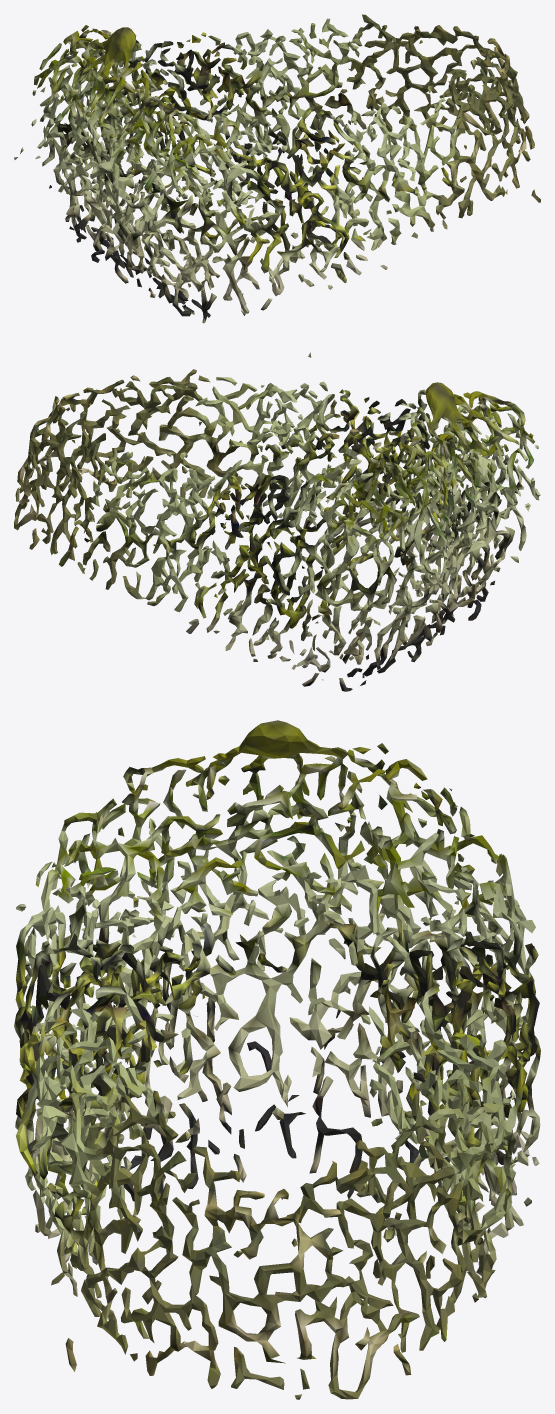
File: grandWizard.glb
3 views of the same model, one above another, from view 1: azimuth 30°, elevation 25°; view 2: azimuth 150°, elevation 25°; view 3: azimuth 270°, elevation 25° (orthographic). The views are drawn at different scales.
Parts seen in each view (by area): view 1: world; view 2: world; view 3: world.
Part boxes in pixels (box(x1,y1,x2,y2)): world: box(14, 14, 540, 323); world: box(14, 352, 540, 691); world: box(14, 720, 540, 1399).
Bounding box in the file's own units: 1.8 × 1 × 1.06.
